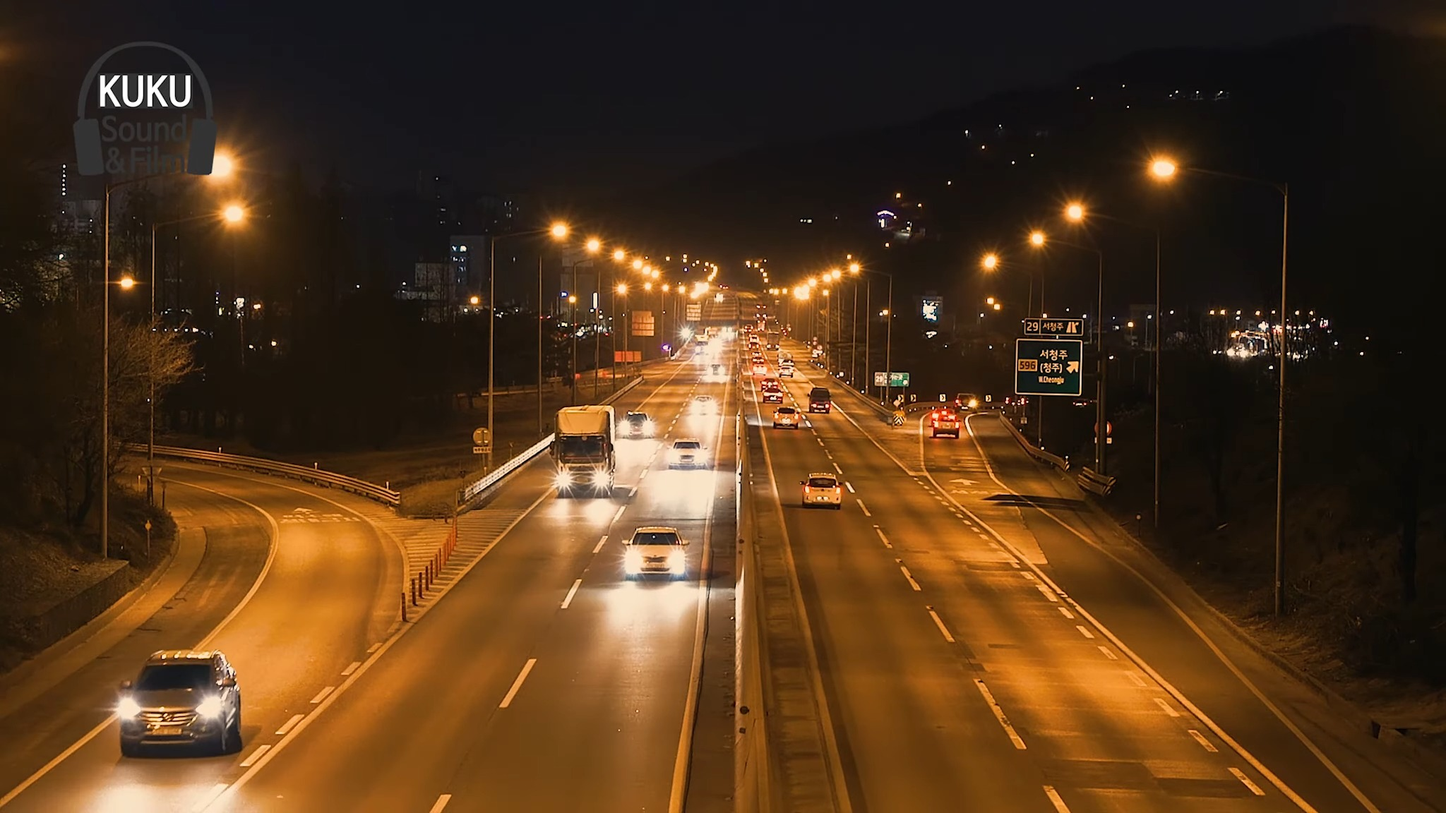car: (117, 646, 237, 765), (622, 528, 692, 584), (799, 473, 846, 509)
truck: (551, 397, 617, 505)
